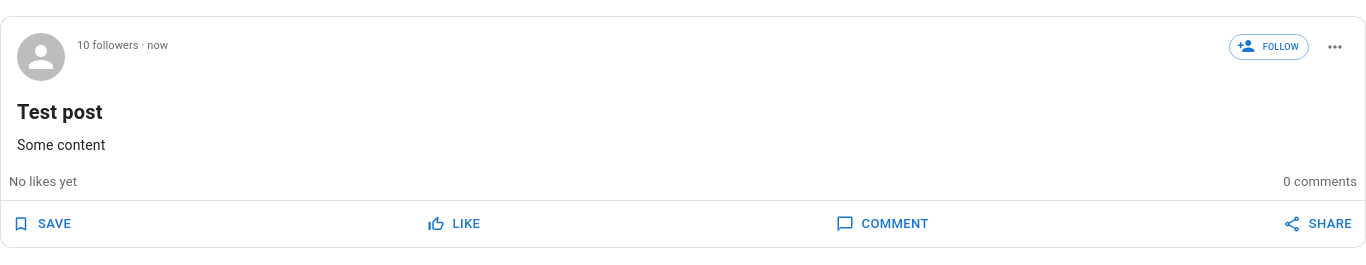
Scenario: Report-a-post: overflow menu › clicking ⋯ opens a menu with "Report post"
This screenshot has width=1366, height=265.
What coordinates should you click on to do the following:
click the button named "post options"
I would click on:
 (1335, 47)
Its box is left=1313, top=25, right=1357, bottom=69.
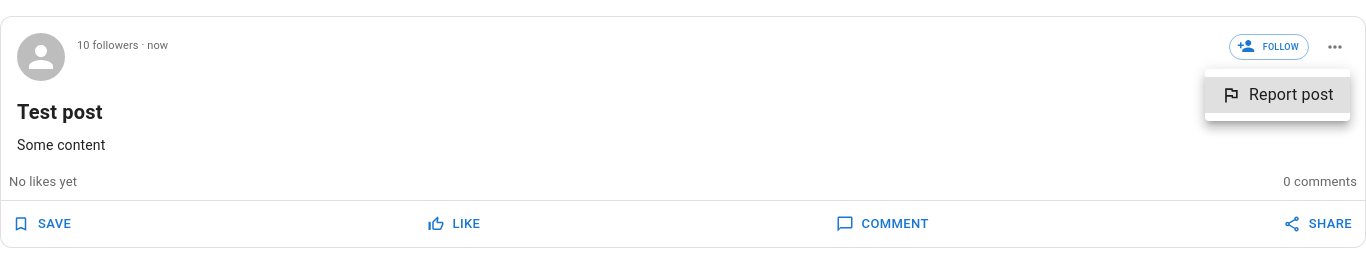
Result: the menu item "Report post" is shown at left=1205, top=77, right=1350, bottom=113
